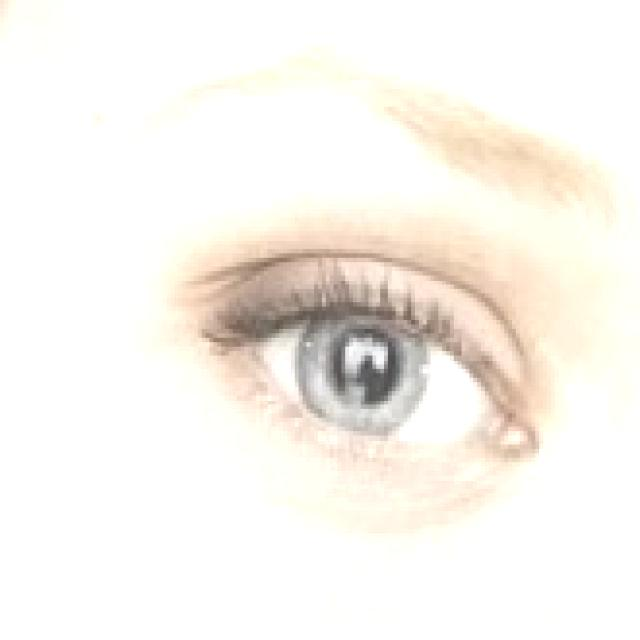Normal: (156, 218, 565, 506)
